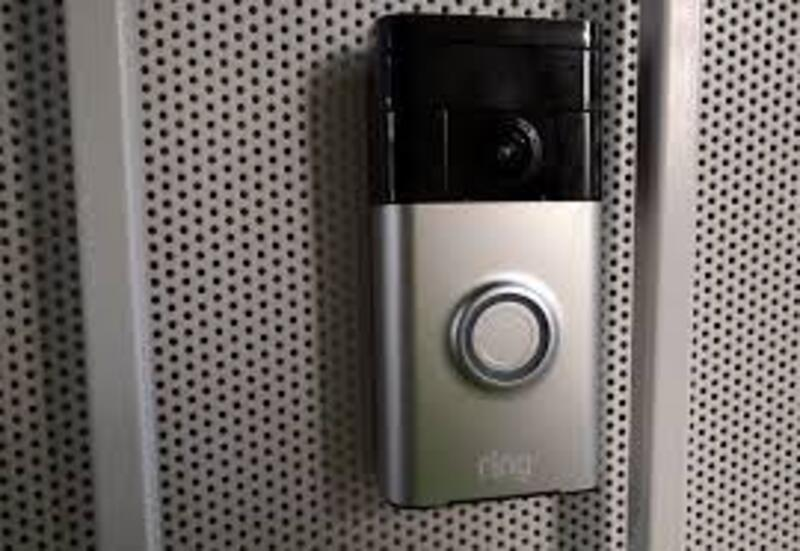doorbell: (364, 9, 610, 514)
